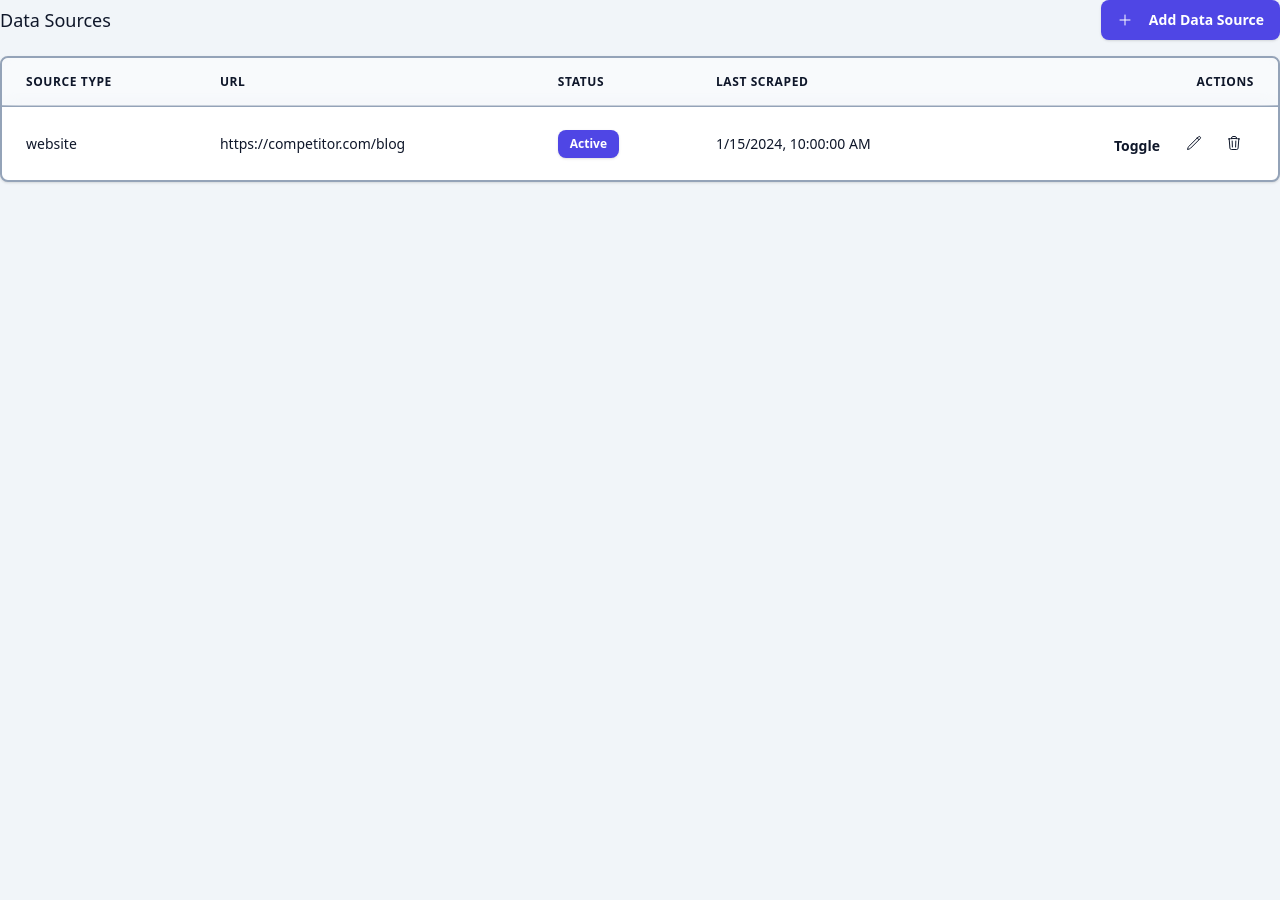
Test: DataSourcesManager Component › should delete data source when delete button is clicked and confirmed
Check: the text "website" is shown, box [2,106,196,180]
// Click delete button
Step 1. Click the button named "delete" → (1234, 143), box [1214,123,1254,163]
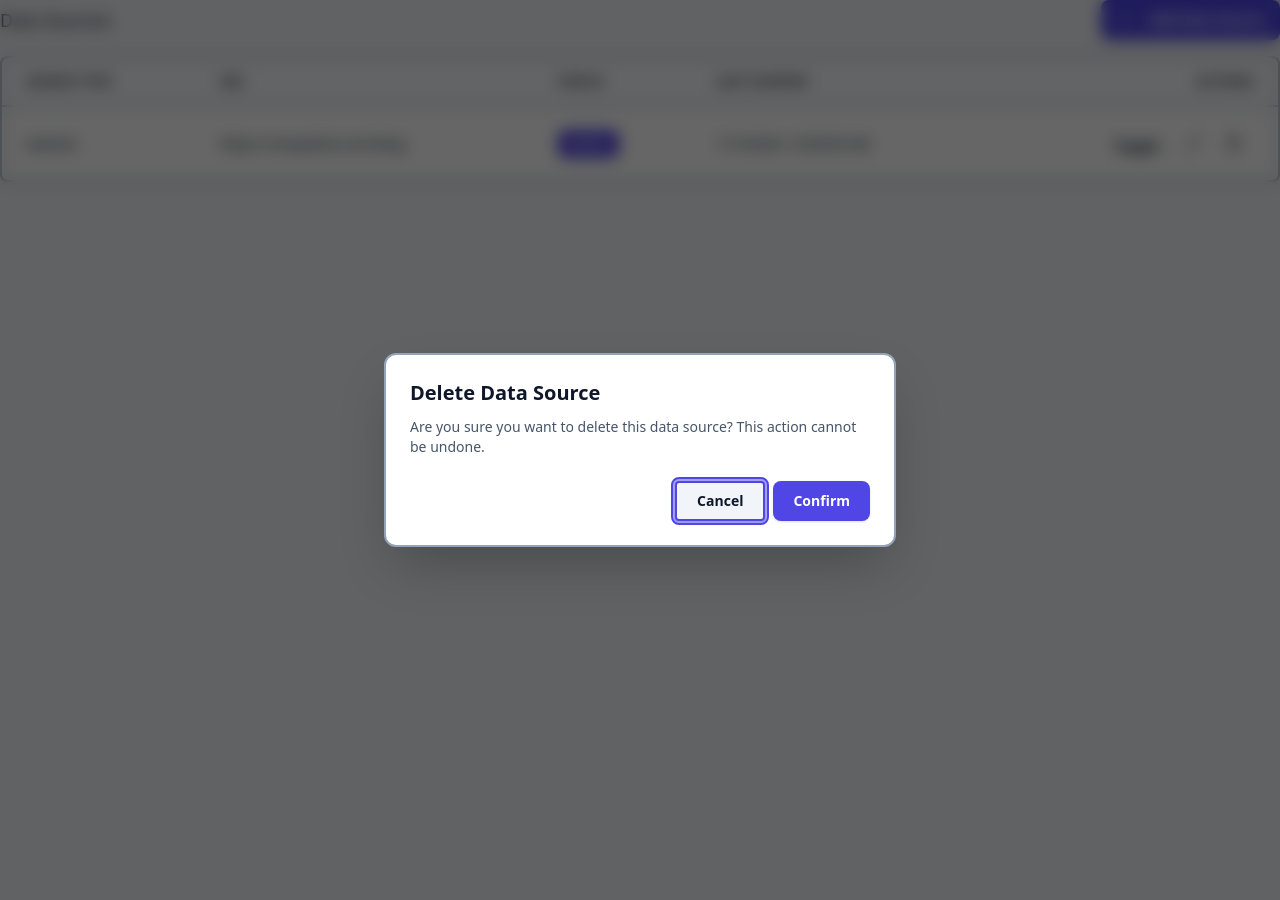
// Confirm deletion
Step 2. Click the button "Confirm" → (822, 501), box [773,481,870,521]
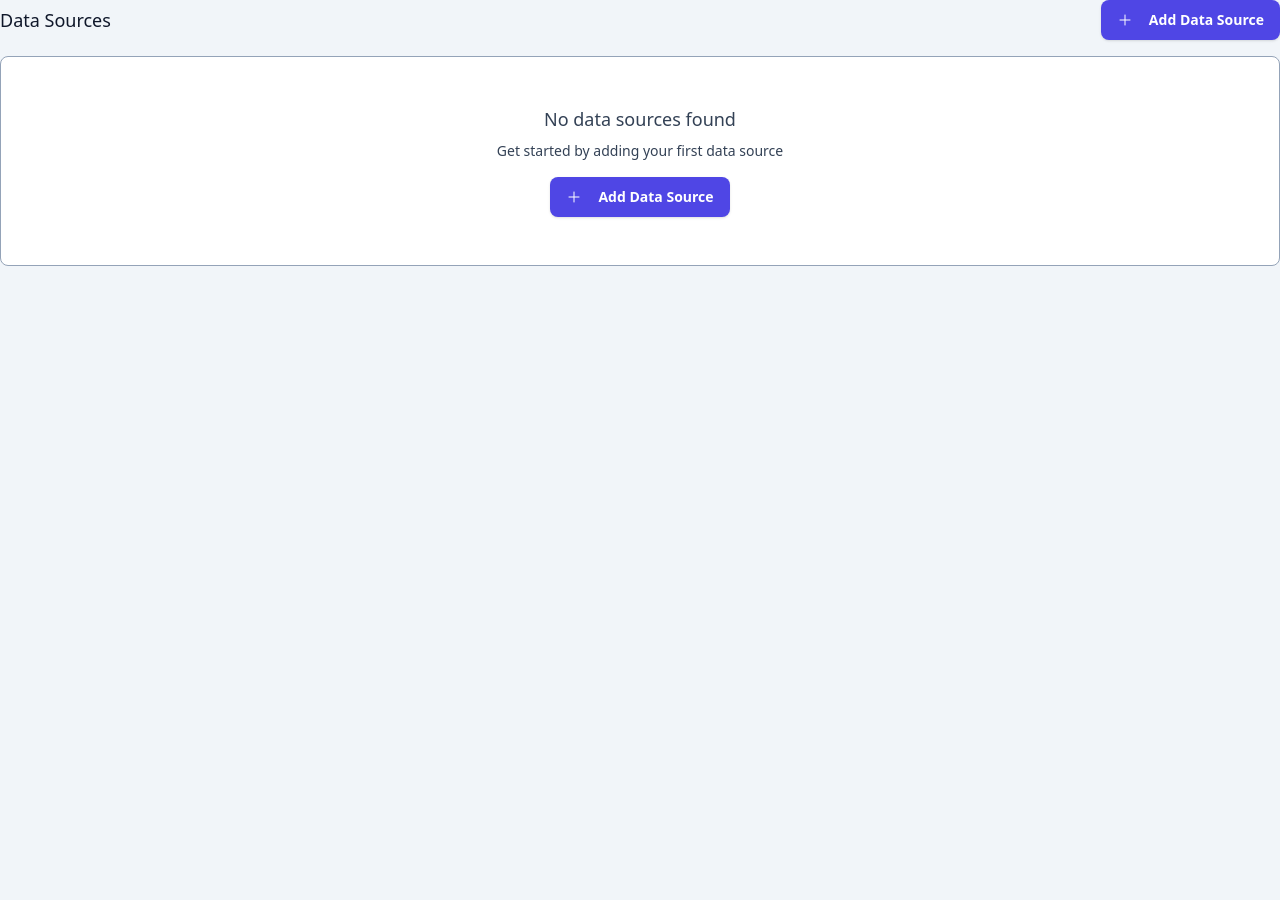
Check: the text "website" is gone
Check: the text "No data sources found" is shown, box [544,107,736,131]
